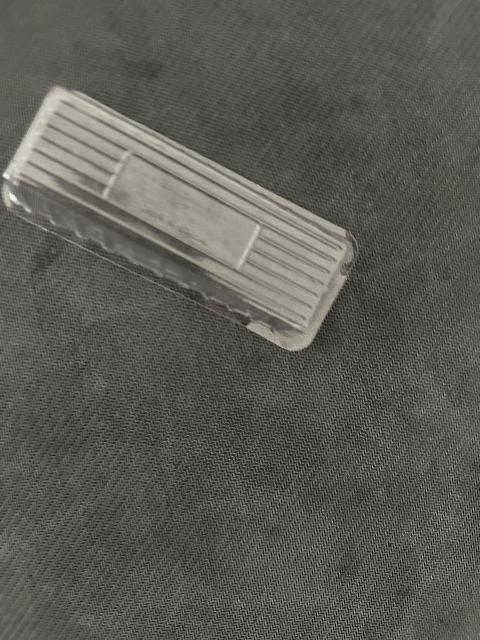Plastik: (6, 79, 357, 354)
